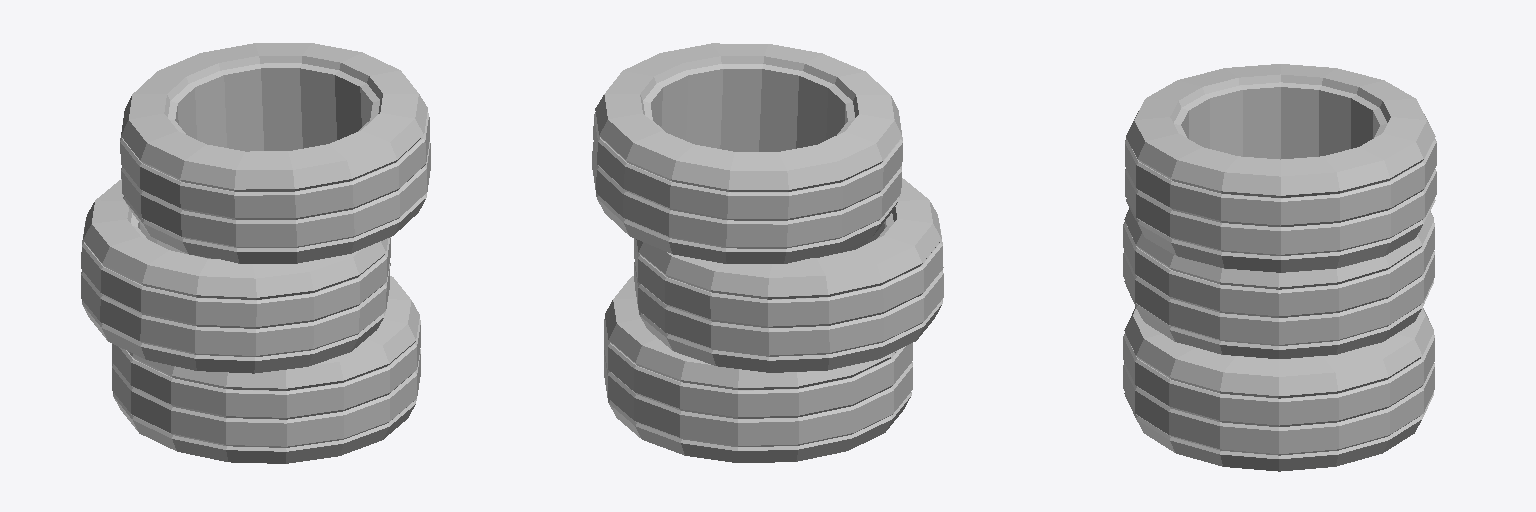
Rendered from Wheels_Stack.obj.
3 renders of one model, left to right at view 1: azimuth 30°, elevation 25°; view 2: azimuth 150°, elevation 25°; view 3: azimuth 270°, elevation 25°, orthographic.
Visible parts, largest first — view 1: Wheels_Stack_Cube.062; view 2: Wheels_Stack_Cube.062; view 3: Wheels_Stack_Cube.062.
Part boxes in pixels (x1,y1,x2,y2): Wheels_Stack_Cube.062: (81, 43, 430, 463); Wheels_Stack_Cube.062: (592, 43, 943, 462); Wheels_Stack_Cube.062: (1123, 64, 1436, 471).
Bounding box in the file's own units: 0.6576 × 0.6114 × 0.5719.